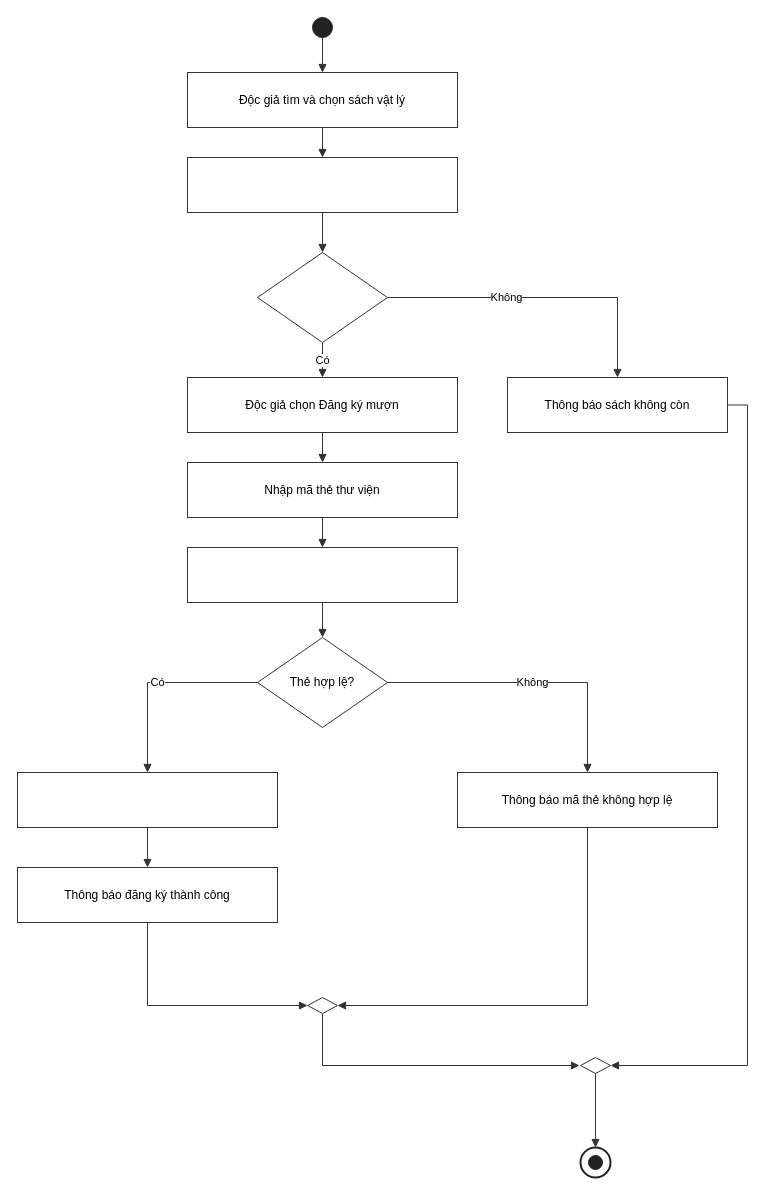
This 773x1196 diagram has some shape labels left out. Each missing label, with the centre of its shape:
"Còn sách?" belongs at [322,297].
"Ghi nhận yêu cầu đăng ký mượn" belongs at [147,800].
"Hệ thống hiển thị số lượng còn" belongs at [322,184].
"Hệ thống kiểm tra thẻ" belongs at [322,574].
